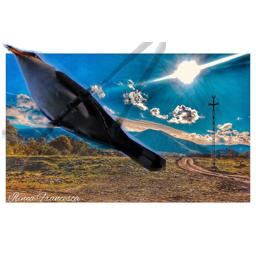Cuckoo: (2, 42, 166, 171)
